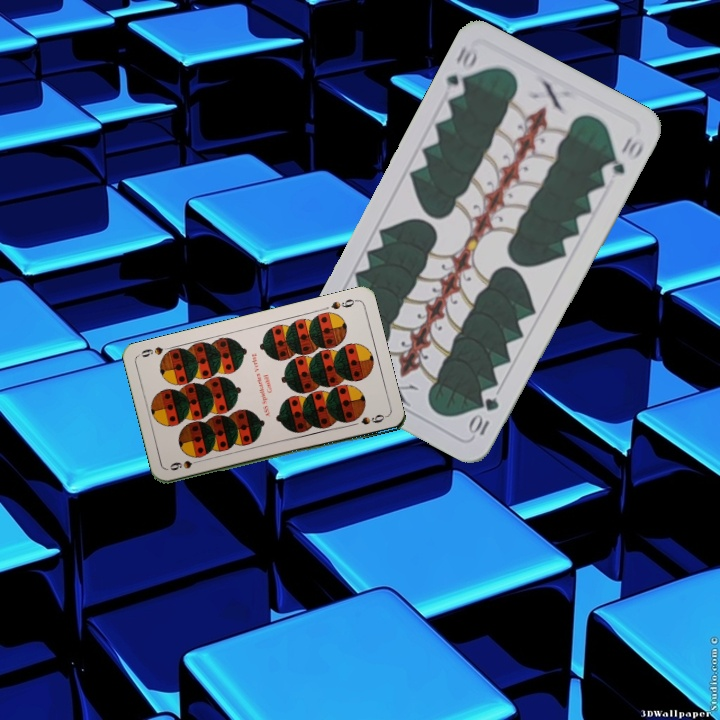G10: (440, 41, 481, 101), (465, 393, 502, 440)
S9: (166, 456, 205, 473), (327, 295, 360, 312)
